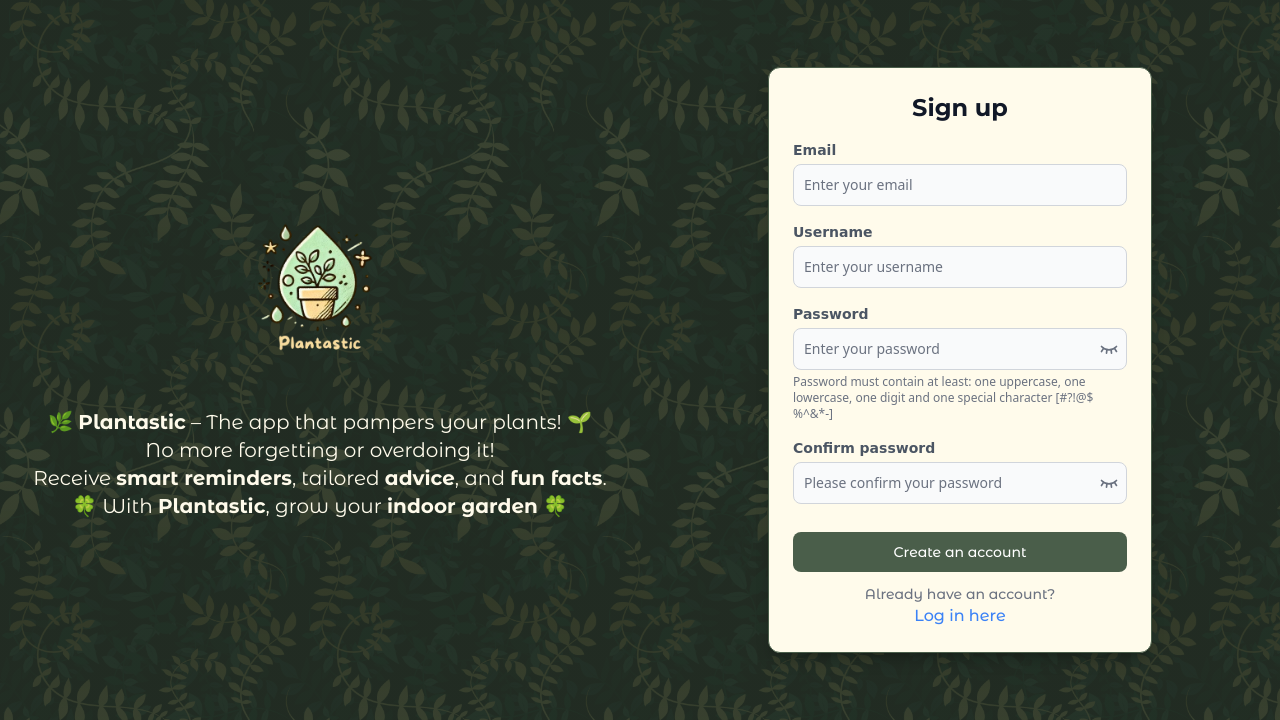
it: should not signup successfully if password do not match
Type "test@example.com" into the field with placeholder "Enter your email" at (960, 185), box [793,164,1127,206]
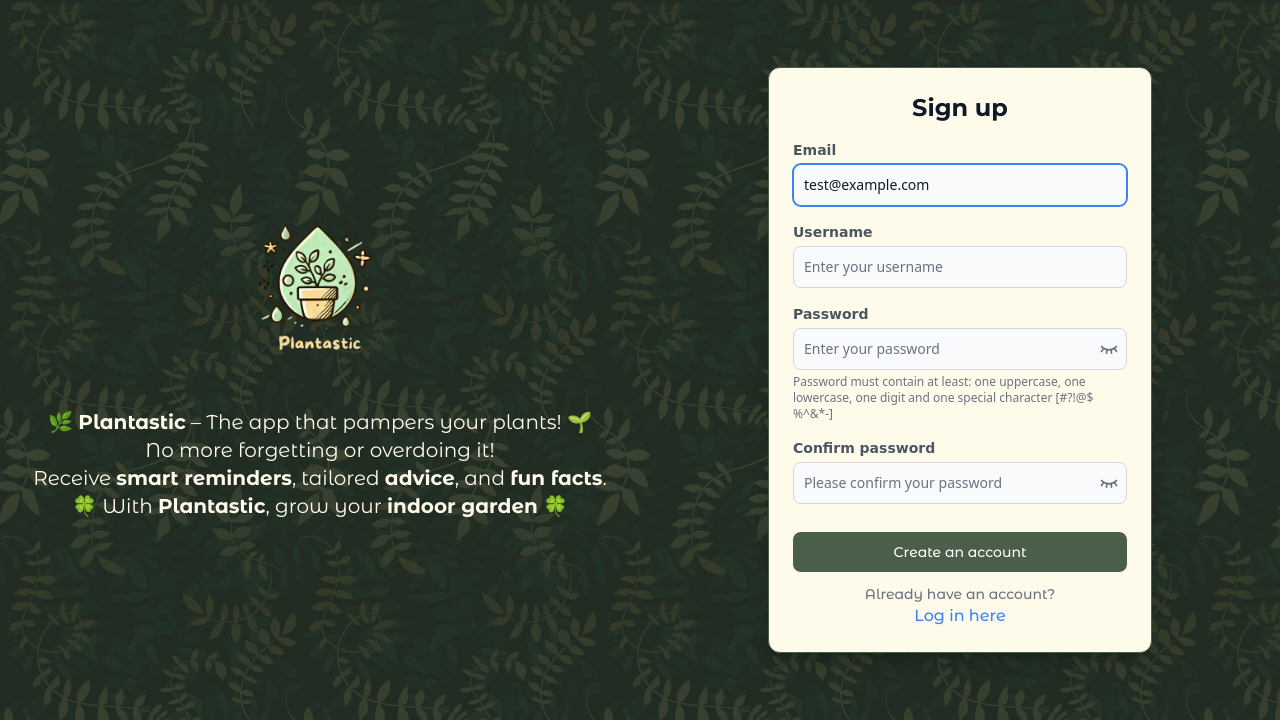
Type "testuser" into the field with placeholder "Enter your username" at (960, 267), box [793,246,1127,288]
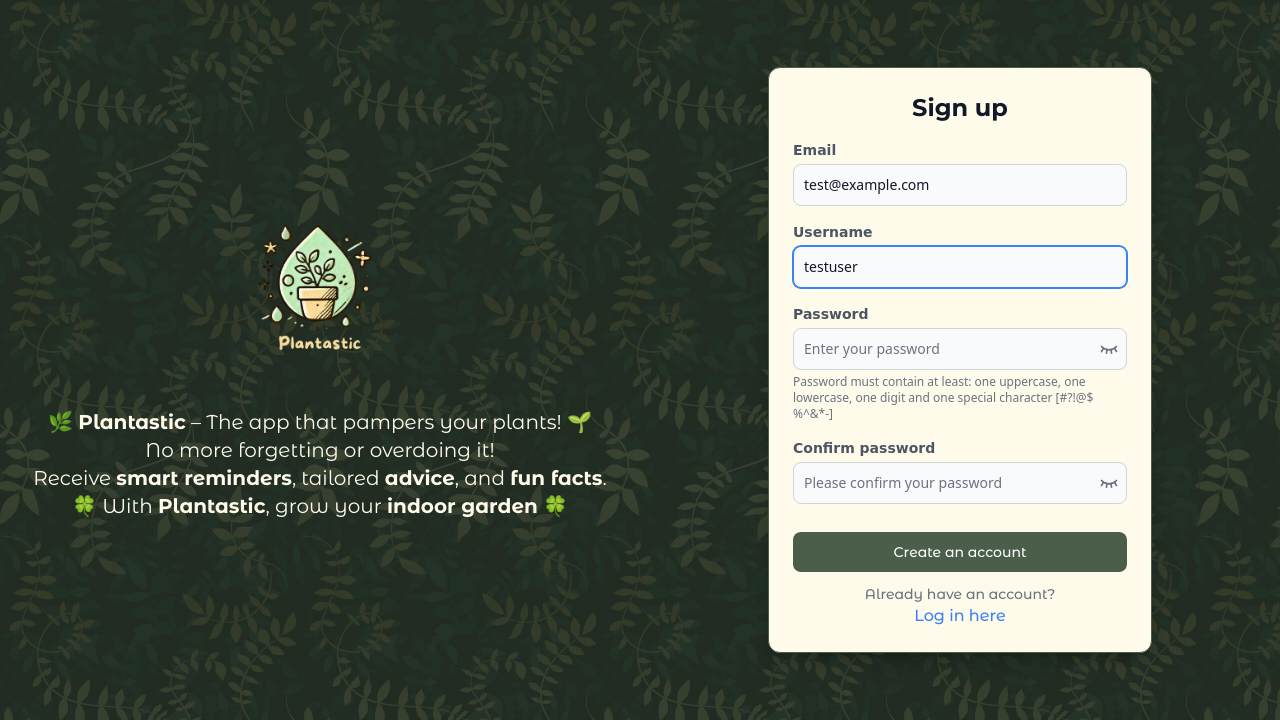
Type "Password123!" into the password field with placeholder "Enter your password" at (960, 349), box [793,328,1127,370]
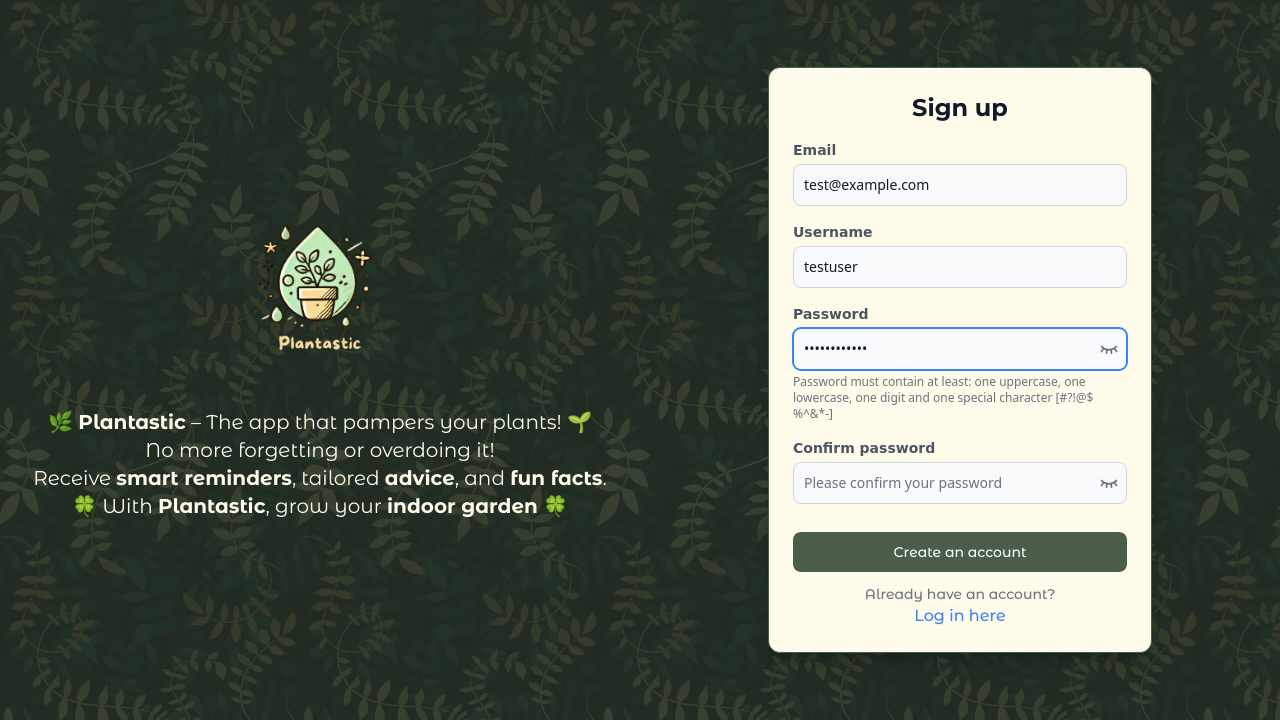
Type "DifferentPassword123!" into the password field with placeholder "Please confirm your password" at (960, 483), box [793,462,1127,504]
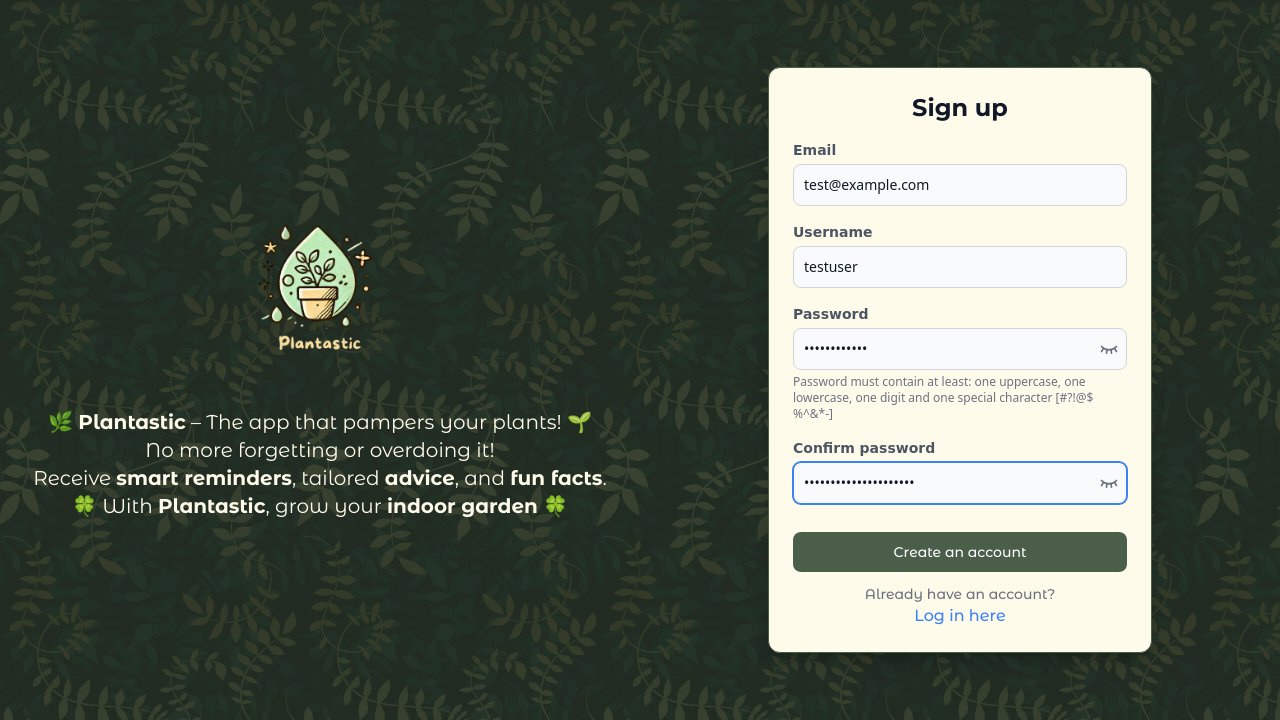
Click the button "Create an account" at (960, 552), box [793,532,1127,572]
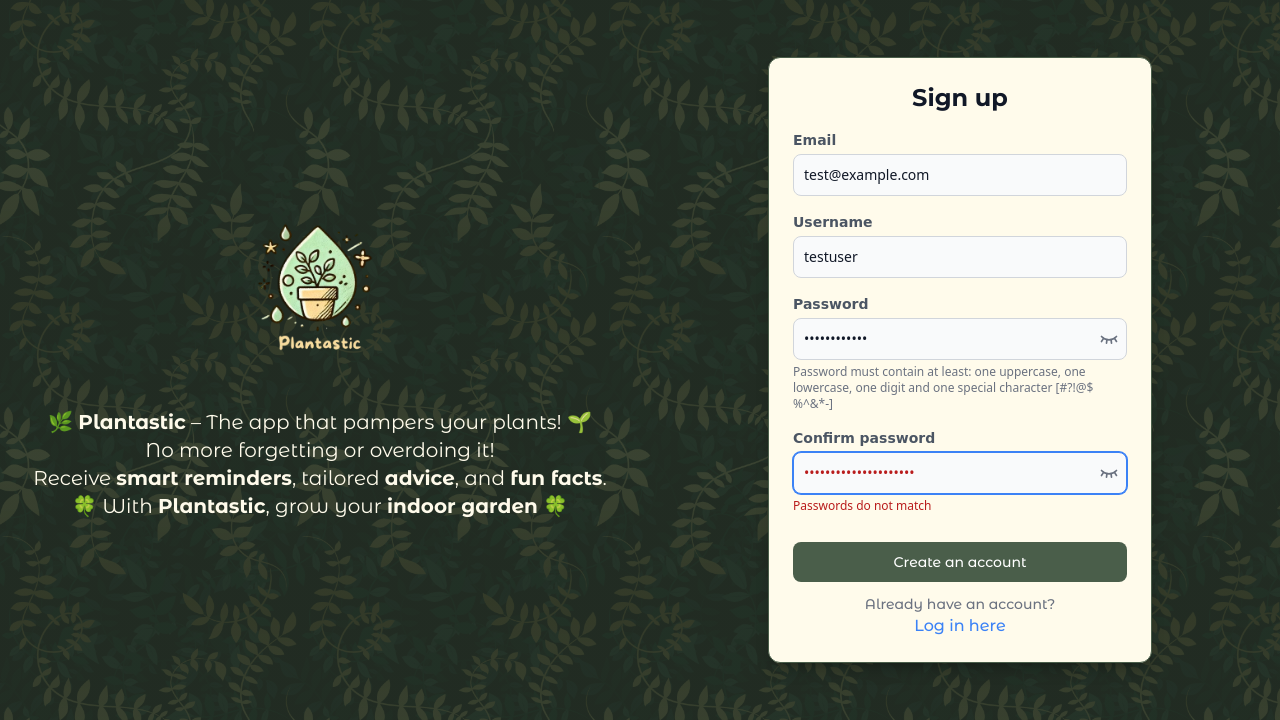
Result: the text "Passwords do not match" is shown at [793,497,932,514]
